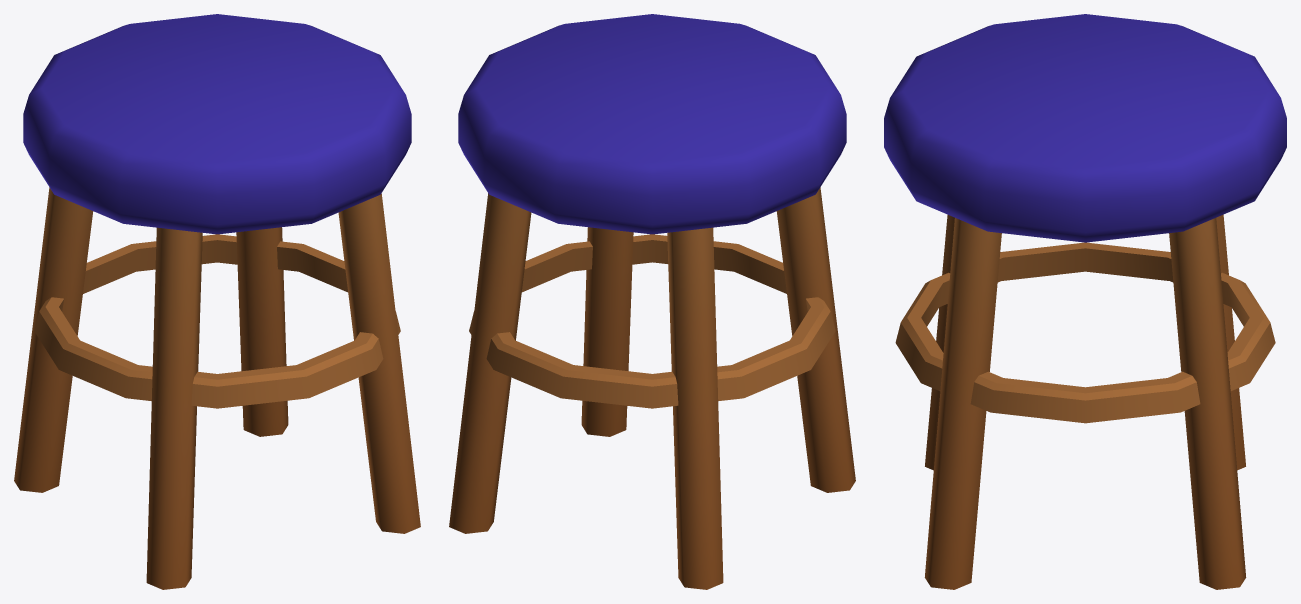
File: Chair_1_C.fbx
3 renders of one model, left to right at view 1: azimuth 30°, elevation 25°; view 2: azimuth 150°, elevation 25°; view 3: azimuth 270°, elevation 25°, orthographic. The views are drawn at different scales.
Parts seen in each view (by area): view 1: Chair_1_C; view 2: Chair_1_C; view 3: Chair_1_C.
Part boxes in pixels (x1=…): Chair_1_C: x1=14, y1=14, x2=420, y2=589; Chair_1_C: x1=449, y1=14, x2=855, y2=589; Chair_1_C: x1=884, y1=14, x2=1286, y2=589.
Bounding box in the file's own units: 50.02 × 59.1 × 50.04.
